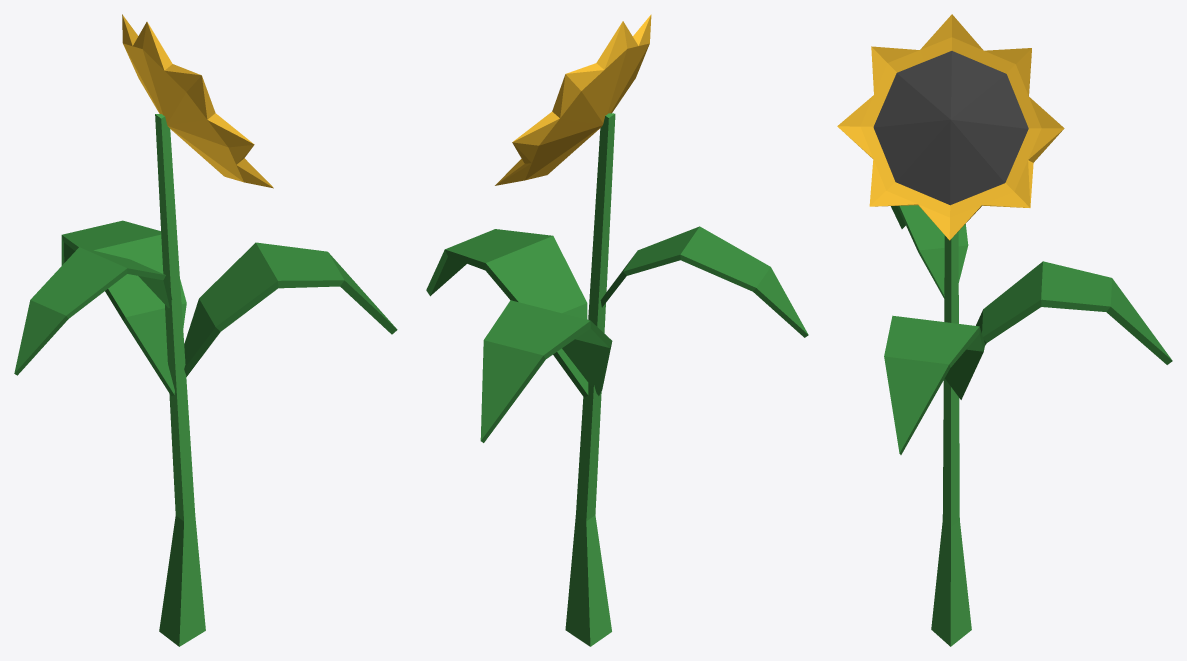
Rendered from plant_007.glb.
3 renders of one model, left to right at view 1: azimuth 30°, elevation 25°; view 2: azimuth 150°, elevation 25°; view 3: azimuth 270°, elevation 25°, orthographic. The views are drawn at different scales.
Parts seen in each view (by area): view 1: plant_007; view 2: plant_007; view 3: plant_007.
Boxes of the visible parts, bbox=[...] form: plant_007: bbox=[14, 14, 397, 646]; plant_007: bbox=[426, 14, 808, 646]; plant_007: bbox=[837, 14, 1172, 646].
Bounding box in the file's own units: 1.08 × 1.67 × 0.8416.
Materials: 1 (1 with a texture image).
